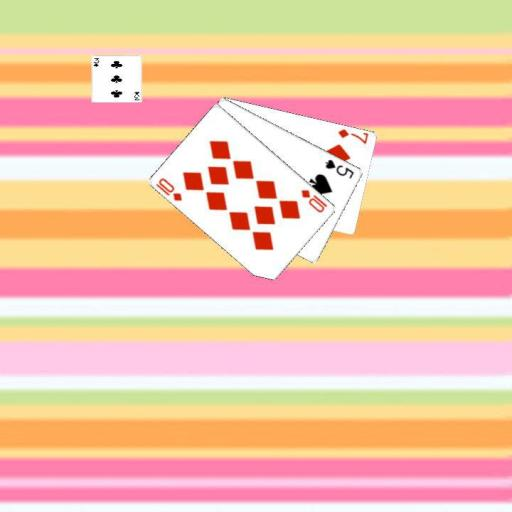10D: (298, 186, 329, 214), (153, 175, 183, 203)
5S: (322, 156, 356, 180)
7D: (335, 126, 370, 145)
